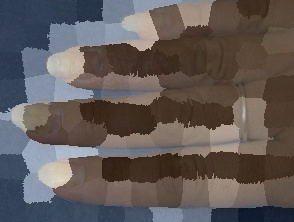Nail_psoriasis: (32, 148, 95, 201), (46, 45, 119, 88), (8, 101, 75, 146), (120, 10, 173, 36)
